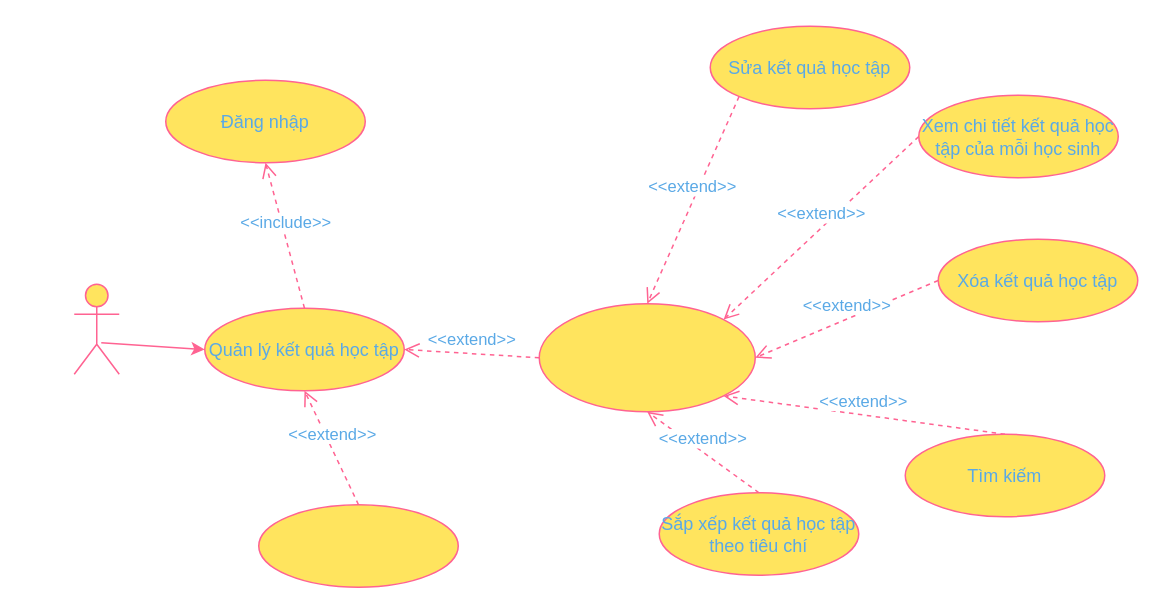
Some shapes in this 1164 by 614 pixel diagram are drawn without their labels. Each missing label, with the box of its shape:
Giáo viên bộ môn: (73, 283, 119, 374)
Nhập kết quả học tập: (257, 503, 458, 587)
Xem danh sách kết quả học tập của các học sinh lớp dạy: (538, 302, 755, 412)
